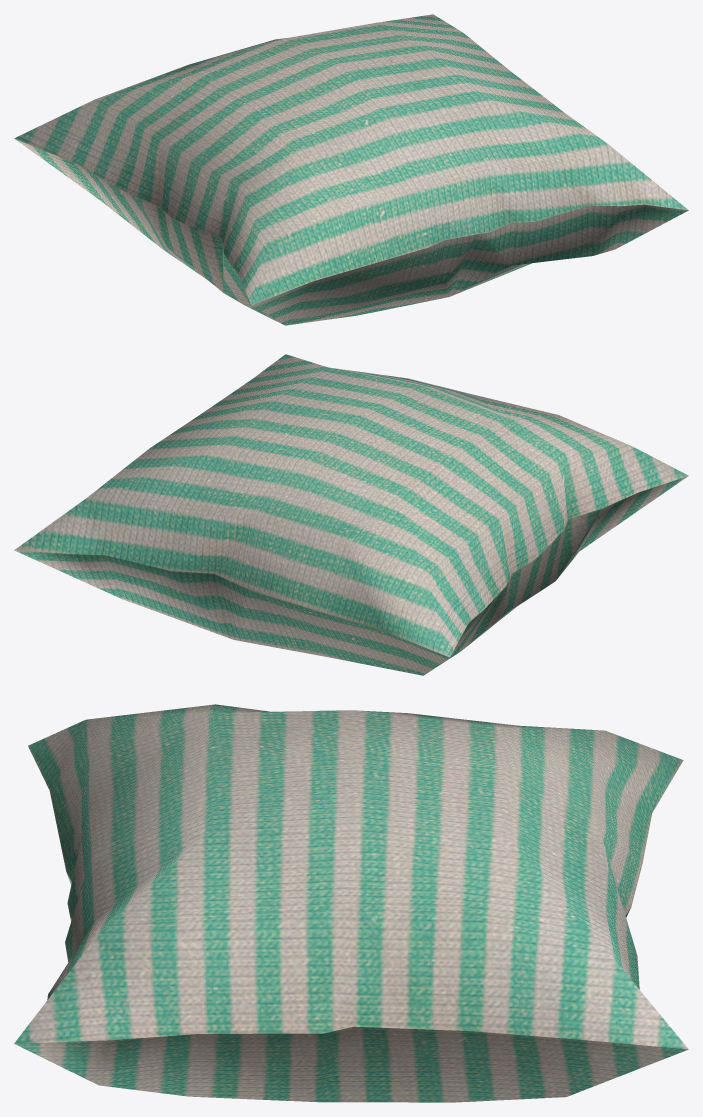
Rendered from Ht_baozhen_04.FBX.
3 renders of one model, top to bottom at view 1: azimuth 30°, elevation 25°; view 2: azimuth 150°, elevation 25°; view 3: azimuth 270°, elevation 25°, orthographic. The views are drawn at different scales.
Visible parts, largest first — view 1: Ht_baozhen_04; view 2: Ht_baozhen_04; view 3: Ht_baozhen_04.
Part boxes in pixels (x1,y1,x2,y2): Ht_baozhen_04: (14, 14, 688, 325); Ht_baozhen_04: (14, 354, 688, 675); Ht_baozhen_04: (14, 704, 688, 1102).
Size of the model in its own units: 86.03 by 38.96 by 83.22.
